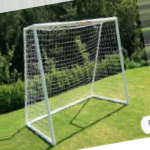goals: (21, 14, 131, 146)
